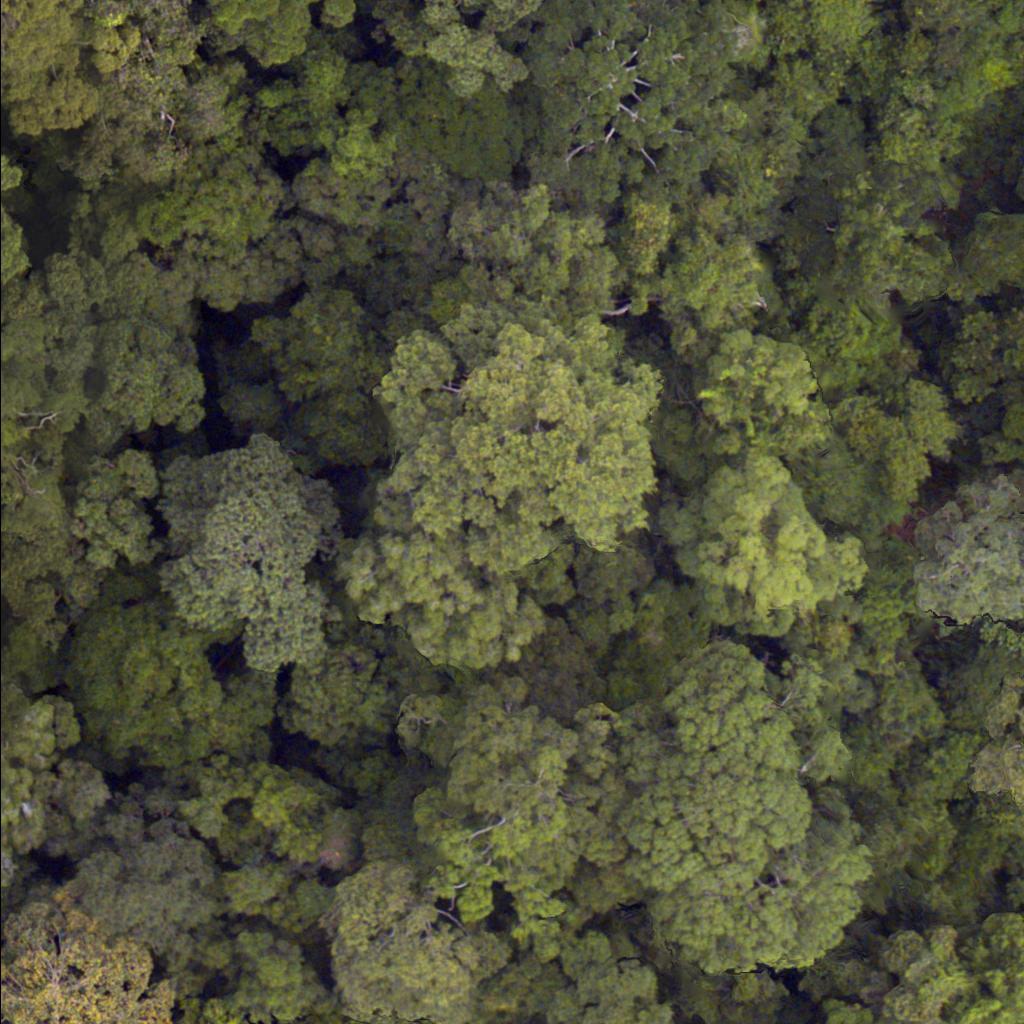crown: (327, 298, 642, 704), (627, 641, 857, 998), (0, 259, 192, 678), (123, 428, 364, 687), (420, 715, 626, 958), (75, 599, 293, 793), (658, 456, 866, 635), (318, 867, 519, 1023), (0, 0, 146, 163), (78, 810, 214, 978), (0, 903, 180, 1023), (686, 323, 833, 456), (911, 470, 1023, 632), (379, 0, 537, 103), (880, 911, 1023, 1023), (553, 951, 700, 1023), (216, 938, 337, 1023), (981, 676, 1023, 814), (0, 162, 29, 298), (814, 1007, 892, 1023), (483, 1011, 524, 1023)
